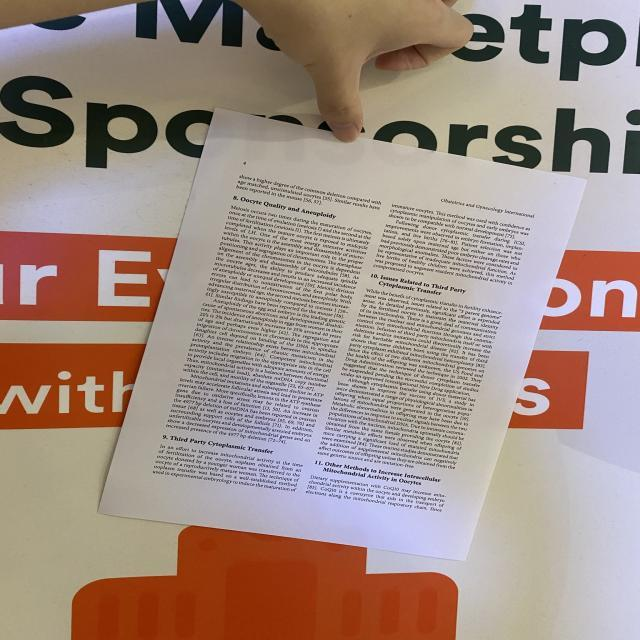document: (100, 110, 585, 560)
